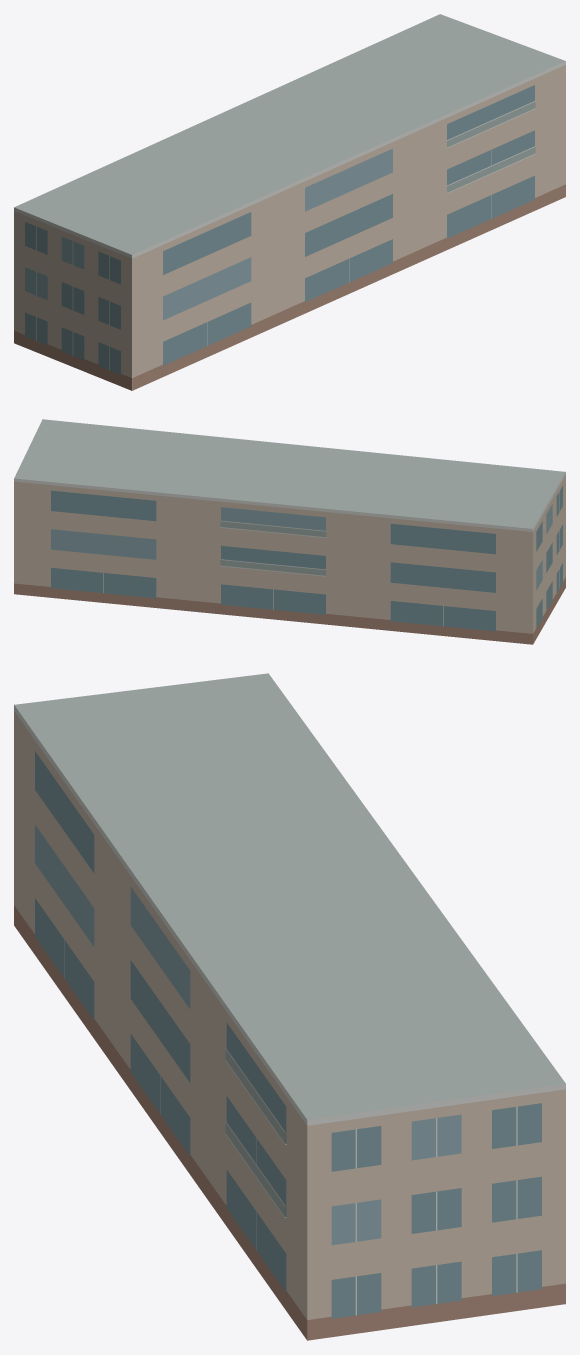
File: survey-upis-32471118.glb
3 renders of one model, top to bottom at view 1: azimuth 30°, elevation 25°; view 2: azimuth 150°, elevation 25°; view 3: azimuth 270°, elevation 25°, orthographic. The views are drawn at different scales.
Parts seen in each view (by area): view 1: survey-upis-32471118.tmp; view 2: survey-upis-32471118.tmp; view 3: survey-upis-32471118.tmp.
Part boxes in pixels (<box>): survey-upis-32471118.tmp: <box>14,14,565,390</box>; survey-upis-32471118.tmp: <box>14,419,565,644</box>; survey-upis-32471118.tmp: <box>14,673,565,1340</box>.
Bounding box in the file's own units: 39.74 × 9.15 × 20.75.
